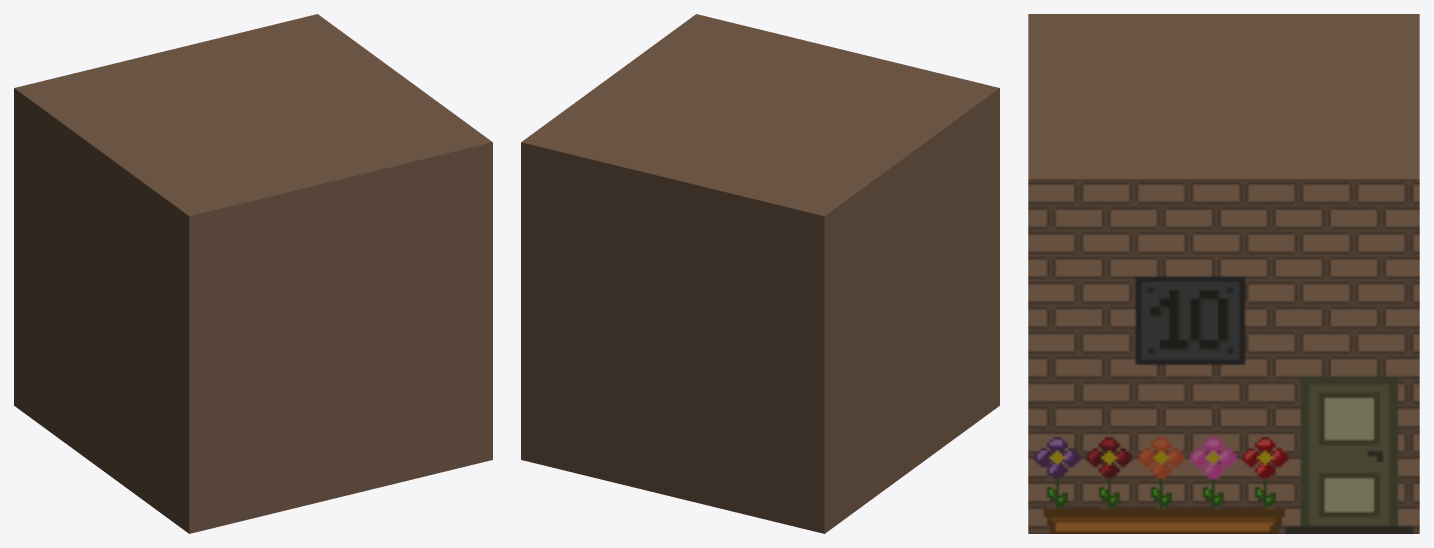
The model's file is BrickBuildingBrown128x128_Ground03.fbx.
3 renders of one model, left to right at view 1: azimuth 30°, elevation 25°; view 2: azimuth 150°, elevation 25°; view 3: azimuth 270°, elevation 25°, orthographic. The views are drawn at different scales.
Parts seen in each view (by area): view 1: Ground03; view 2: Ground03; view 3: Ground03.
Boxes of the visible parts, x1,y1,x2,y2 form: Ground03: (14, 14, 492, 533); Ground03: (521, 14, 999, 533); Ground03: (1028, 14, 1419, 533).
Bounding box in the file's own units: 100 × 100 × 100.
1 material, 1 textured.
